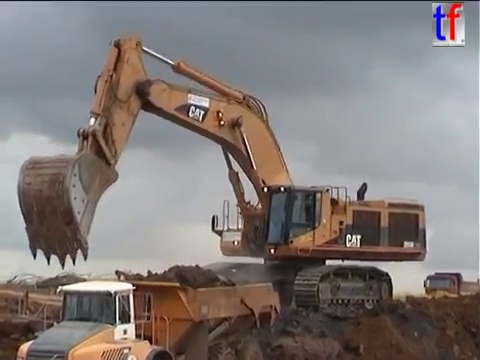excavator: (13, 33, 430, 322)
truck: (13, 276, 283, 360), (421, 270, 480, 308)
